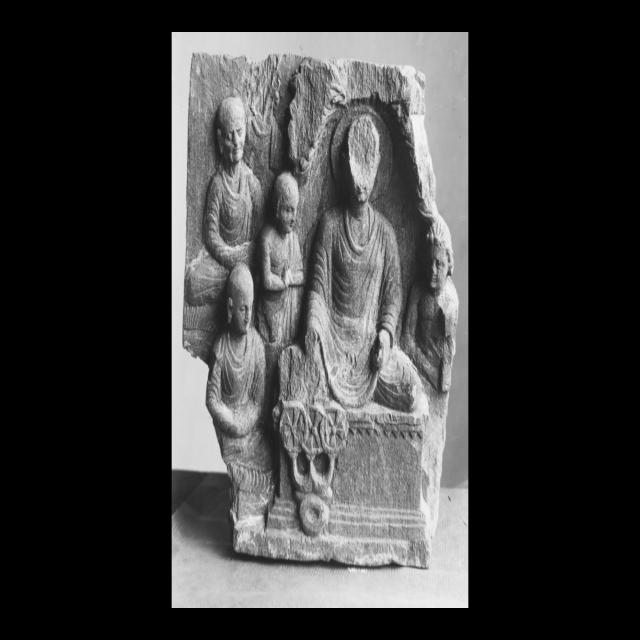buddha-sitting: (265, 106, 430, 566)
